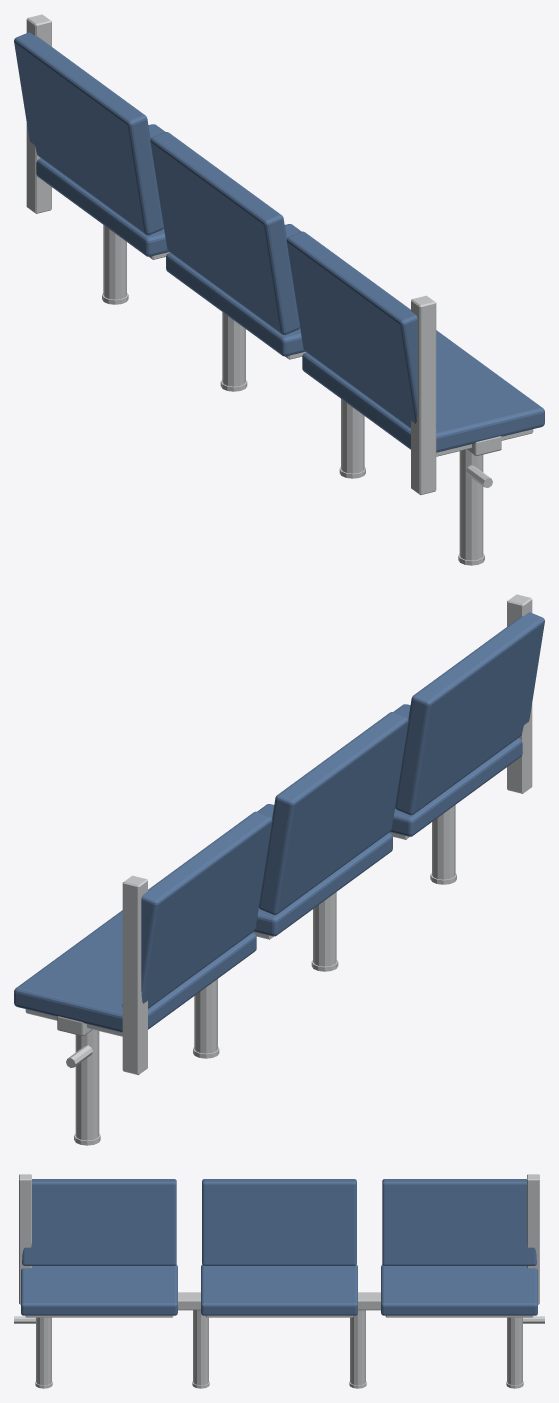
File: bench_01.glb
The picture shows the model from 3 angles, top to bottom: view 1: azimuth 30°, elevation 25°; view 2: azimuth 150°, elevation 25°; view 3: azimuth 270°, elevation 25°; orthographic projection. The views are drawn at different scales.
Visible parts, largest first — view 1: bench_01; view 2: bench_01; view 3: bench_01.
Part boxes in pixels (x1,y1,x2,y2): bench_01: (14, 14, 544, 565); bench_01: (14, 594, 544, 1145); bench_01: (14, 1174, 544, 1388).
Size of the model in its own units: 0.4746 by 0.9 by 2.3.
